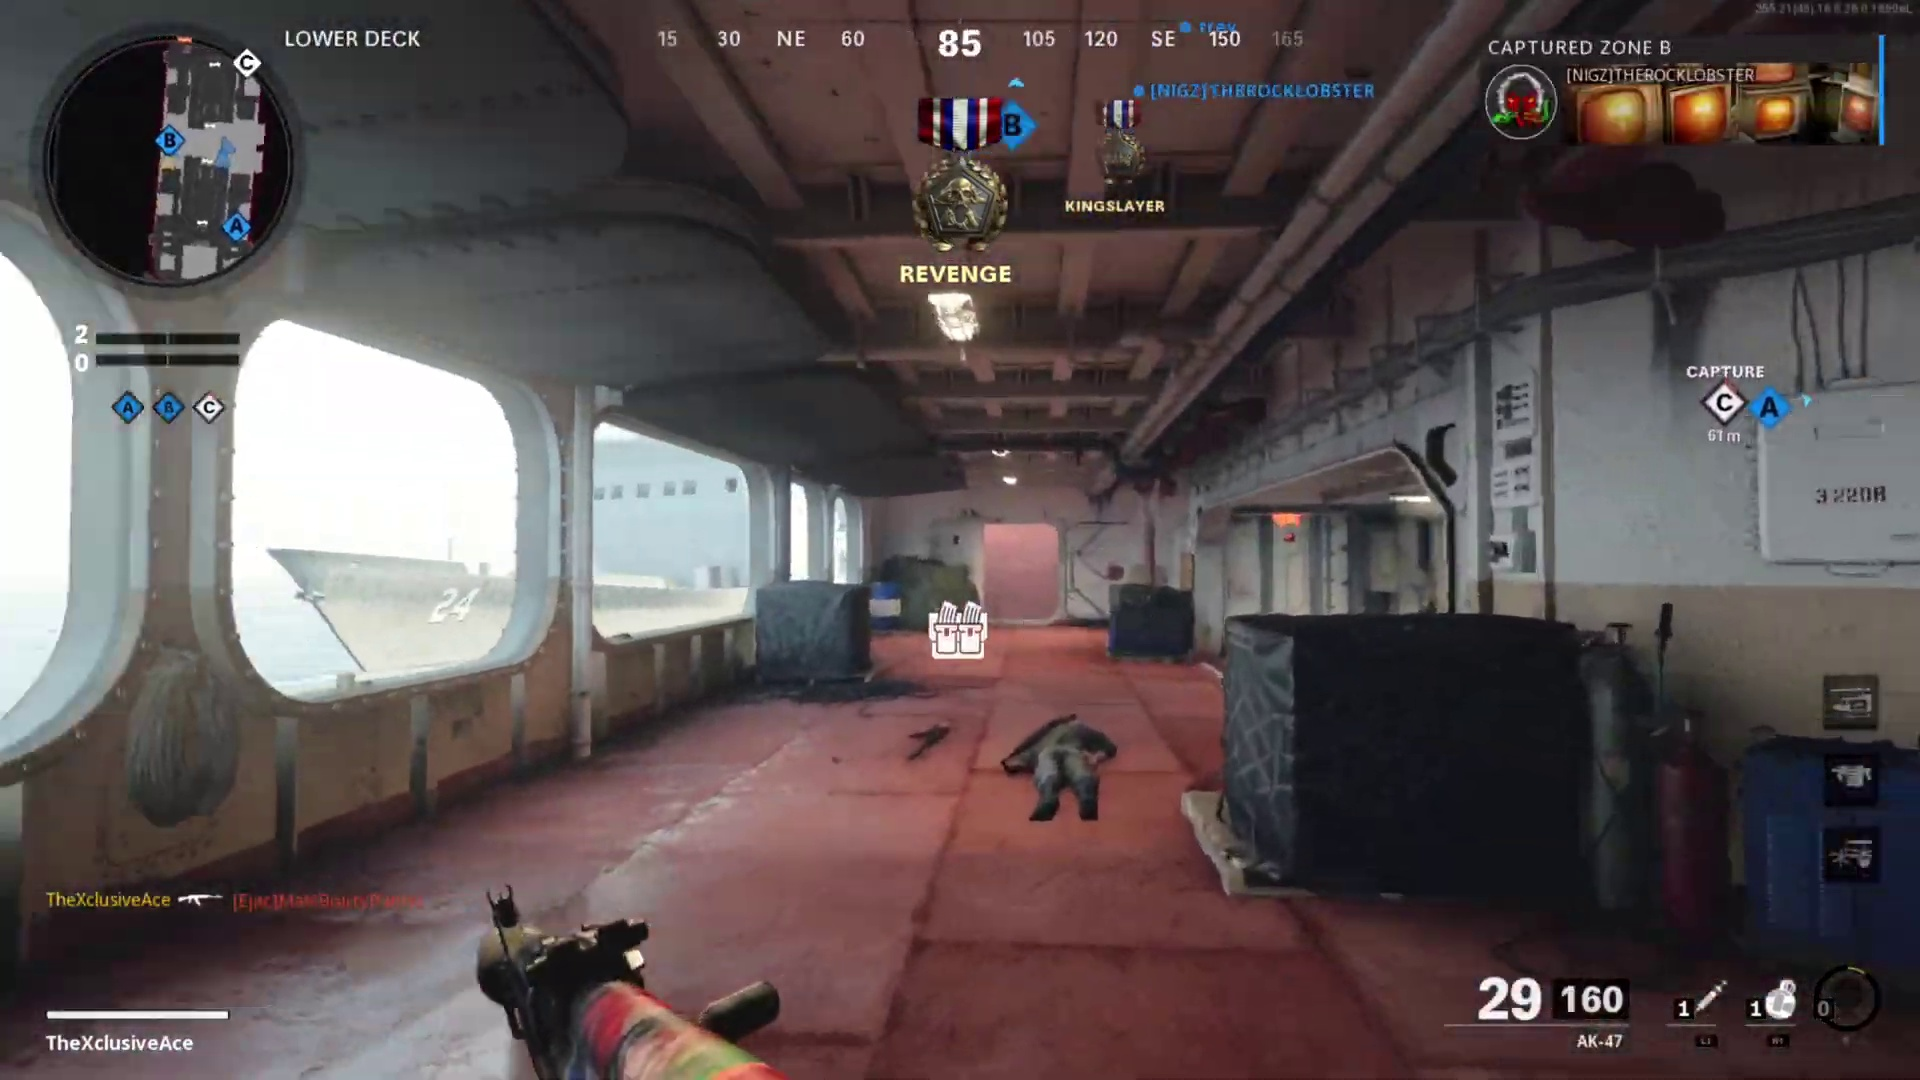person: (1020, 717, 1114, 818)
